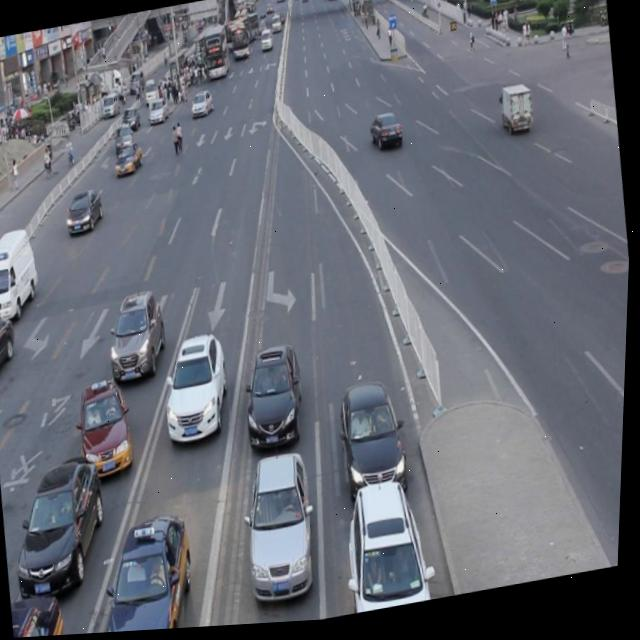bus: (497, 86, 535, 141)
car: (9, 451, 118, 603), (238, 451, 327, 613), (91, 511, 207, 635), (342, 478, 441, 619), (336, 379, 415, 511), (158, 328, 237, 447), (239, 344, 313, 458), (104, 288, 174, 390), (75, 378, 141, 485), (13, 591, 74, 639), (64, 187, 107, 237), (367, 112, 404, 157), (0, 310, 22, 381), (112, 142, 145, 179)
truck: (0, 224, 46, 324)
